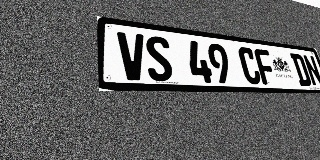4: (185, 40, 213, 83)
9: (206, 43, 233, 84)
C: (237, 46, 262, 85)
D: (290, 53, 313, 86)
F: (253, 48, 278, 85)
N: (302, 55, 320, 87)
S: (144, 35, 174, 82)
V: (117, 31, 148, 81)
